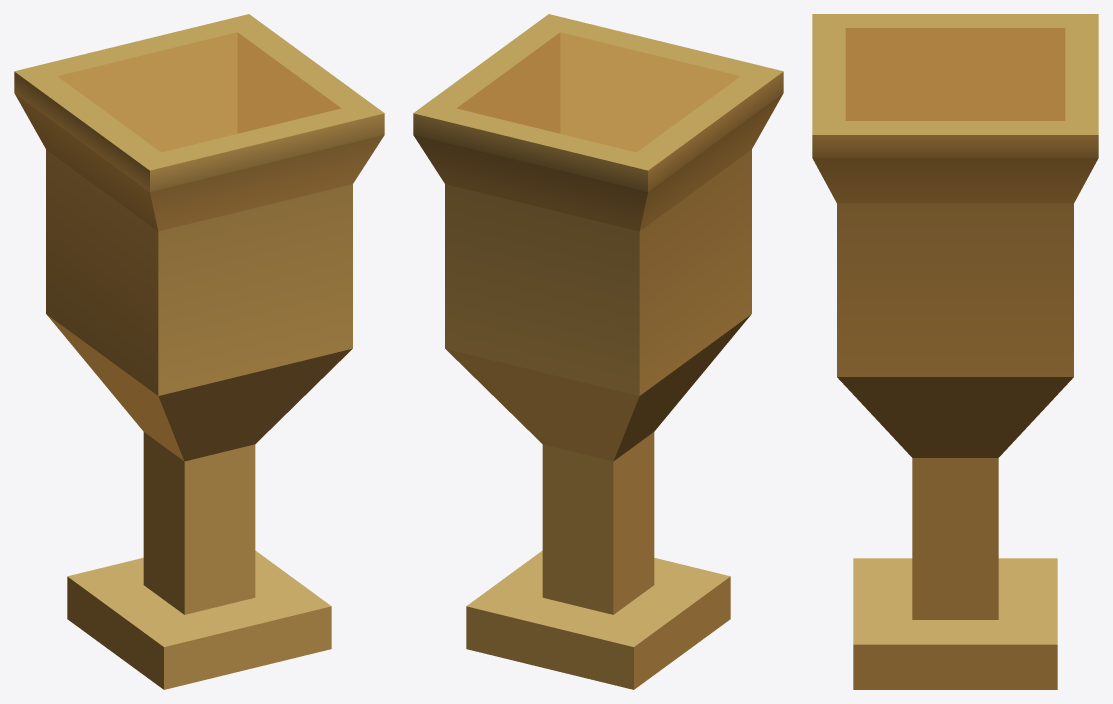
Rendered from SD_Prop_Treasure_Goblet_01.fbx.
The picture shows the model from 3 angles, left to right: view 1: azimuth 30°, elevation 25°; view 2: azimuth 150°, elevation 25°; view 3: azimuth 270°, elevation 25°; orthographic projection. The views are drawn at different scales.
Parts seen in each view (by area): view 1: SD_Prop_Treasure_Goblet_01; view 2: SD_Prop_Treasure_Goblet_01; view 3: SD_Prop_Treasure_Goblet_01.
Boxes of the visible parts, bbox=[...] form: SD_Prop_Treasure_Goblet_01: bbox=[14, 14, 384, 689]; SD_Prop_Treasure_Goblet_01: bbox=[413, 14, 783, 689]; SD_Prop_Treasure_Goblet_01: bbox=[812, 14, 1098, 689].
Size of the model in its own units: 0.4344 by 0.9571 by 0.4344.
